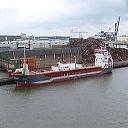Ships: (3, 51, 117, 83)
